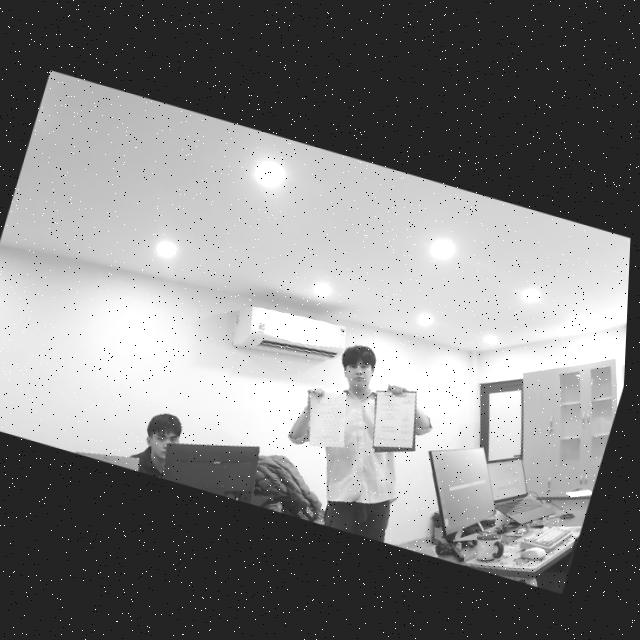document: (373, 392, 415, 447), (308, 392, 346, 447)
face: (133, 411, 180, 472), (336, 342, 376, 396)
